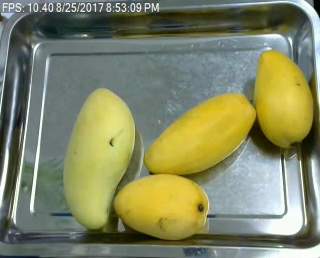Mango: (60, 89, 138, 233), (141, 90, 253, 176), (111, 171, 213, 240), (251, 50, 315, 148)
